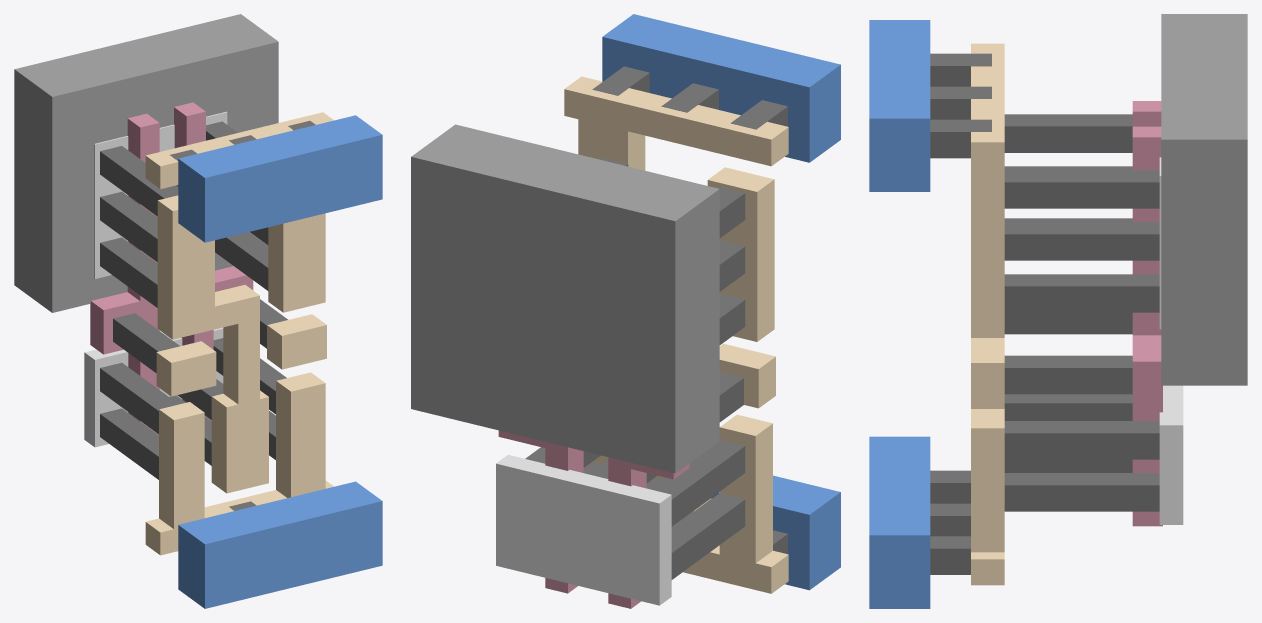
The model's file is sky130_fd_sc_hd__nor2_1.gds.gltf.
3 views of the same model, side by side, from view 1: azimuth 30°, elevation 25°; view 2: azimuth 150°, elevation 25°; view 3: azimuth 270°, elevation 25° (orthographic). The views are drawn at different scales.
Visible parts, largest first — view 1: sky130_fd_sc_hd__nor2_1_li1, sky130_fd_sc_hd__nor2_1_nwell, sky130_fd_sc_hd__nor2_1_met1, sky130_fd_sc_hd__nor2_1_licon, sky130_fd_sc_hd__nor2_1_poly, sky130_fd_sc_hd__nor2_1_diff, sky130_fd_sc_hd__nor2_1_mcon; view 2: sky130_fd_sc_hd__nor2_1_nwell, sky130_fd_sc_hd__nor2_1_li1, sky130_fd_sc_hd__nor2_1_met1, sky130_fd_sc_hd__nor2_1_diff, sky130_fd_sc_hd__nor2_1_licon, sky130_fd_sc_hd__nor2_1_mcon, sky130_fd_sc_hd__nor2_1_poly; view 3: sky130_fd_sc_hd__nor2_1_licon, sky130_fd_sc_hd__nor2_1_nwell, sky130_fd_sc_hd__nor2_1_met1, sky130_fd_sc_hd__nor2_1_li1, sky130_fd_sc_hd__nor2_1_mcon, sky130_fd_sc_hd__nor2_1_poly, sky130_fd_sc_hd__nor2_1_diff.
Boxes of the visible parts, box(x1,y1,x2,y2) form: sky130_fd_sc_hd__nor2_1_li1: box(145, 112, 333, 555); sky130_fd_sc_hd__nor2_1_nwell: box(14, 14, 278, 312); sky130_fd_sc_hd__nor2_1_met1: box(178, 115, 382, 608); sky130_fd_sc_hd__nor2_1_licon: box(100, 121, 287, 479); sky130_fd_sc_hd__nor2_1_poly: box(90, 102, 253, 434); sky130_fd_sc_hd__nor2_1_diff: box(84, 111, 227, 447); sky130_fd_sc_hd__nor2_1_mcon: box(170, 120, 315, 510); sky130_fd_sc_hd__nor2_1_nwell: box(411, 124, 719, 473); sky130_fd_sc_hd__nor2_1_li1: box(564, 76, 788, 593); sky130_fd_sc_hd__nor2_1_met1: box(602, 14, 840, 590); sky130_fd_sc_hd__nor2_1_diff: box(496, 454, 671, 605); sky130_fd_sc_hd__nor2_1_licon: box(525, 158, 745, 579); sky130_fd_sc_hd__nor2_1_mcon: box(592, 66, 787, 554); sky130_fd_sc_hd__nor2_1_poly: box(498, 430, 689, 608); sky130_fd_sc_hd__nor2_1_licon: box(1004, 114, 1159, 511); sky130_fd_sc_hd__nor2_1_nwell: box(1161, 14, 1247, 385); sky130_fd_sc_hd__nor2_1_met1: box(869, 20, 930, 608); sky130_fd_sc_hd__nor2_1_li1: box(971, 43, 1004, 585); sky130_fd_sc_hd__nor2_1_mcon: box(930, 53, 991, 574); sky130_fd_sc_hd__nor2_1_poly: box(1132, 101, 1162, 526); sky130_fd_sc_hd__nor2_1_diff: box(1159, 157, 1183, 524).
Size of the model in its own units: 1.76 by 3.2 by 2.24.
